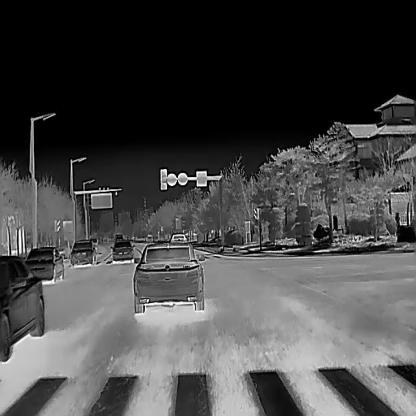car: (133, 241, 204, 313), (0, 254, 44, 361), (25, 246, 63, 282), (68, 239, 96, 266), (110, 240, 133, 261), (169, 232, 188, 242)
